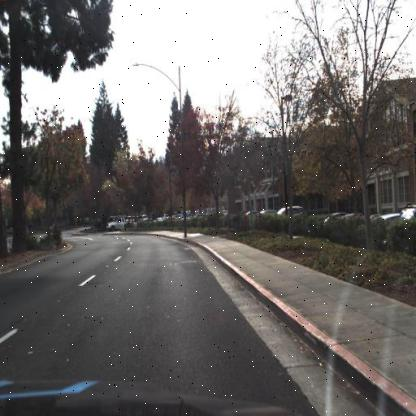car: (104, 214, 139, 231), (279, 206, 307, 221)
